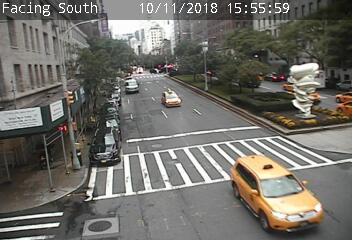car: (231, 156, 324, 233), (161, 91, 182, 107)
